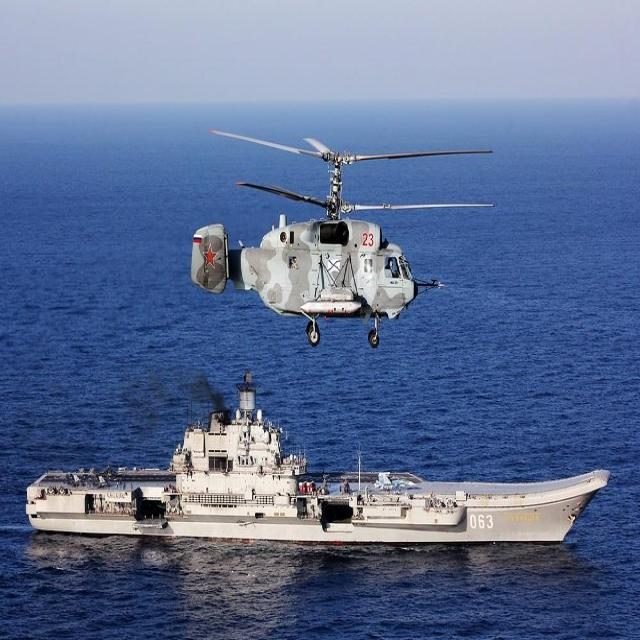MIL_HELO: (179, 113, 502, 350)
